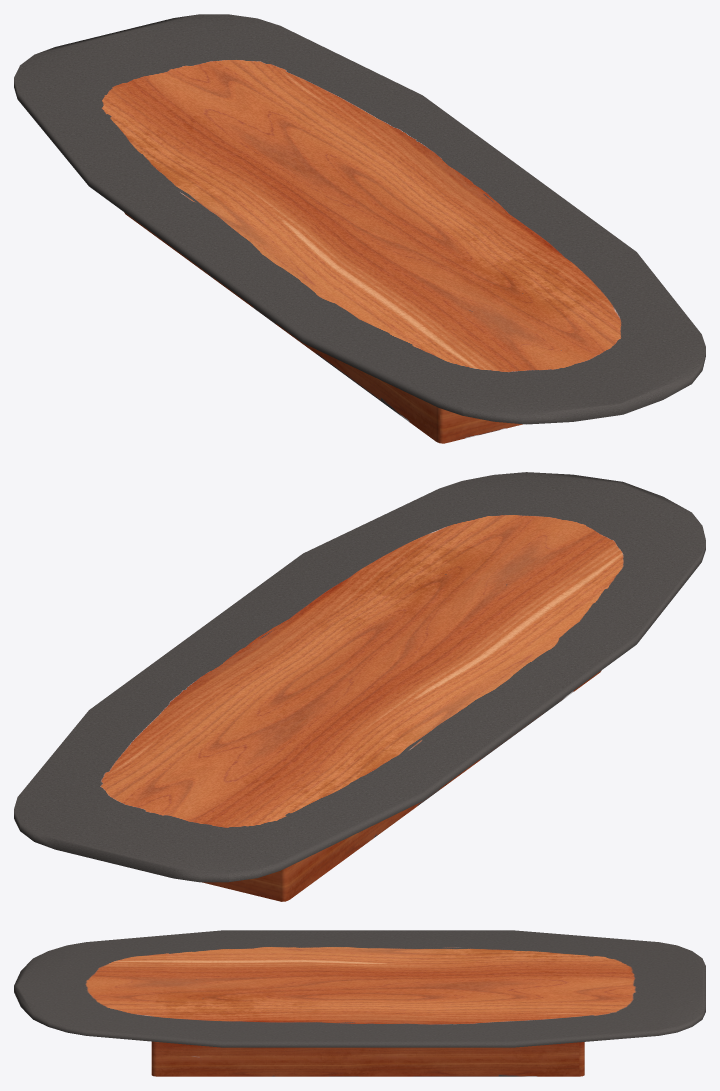
Rendered from conference table.fbx.
The picture shows the model from 3 angles, top to bottom: view 1: azimuth 30°, elevation 25°; view 2: azimuth 150°, elevation 25°; view 3: azimuth 270°, elevation 25°; orthographic projection. The views are drawn at different scales.
Parts seen in each view (by area): view 1: table_lp; view 2: table_lp; view 3: table_lp.
Part boxes in pixels (x1,y1,x2,y2): table_lp: (14,14,705,443); table_lp: (14,472,705,901); table_lp: (14,930,705,1076).
Bounding box in the file's own units: 380 × 102 × 1002.
